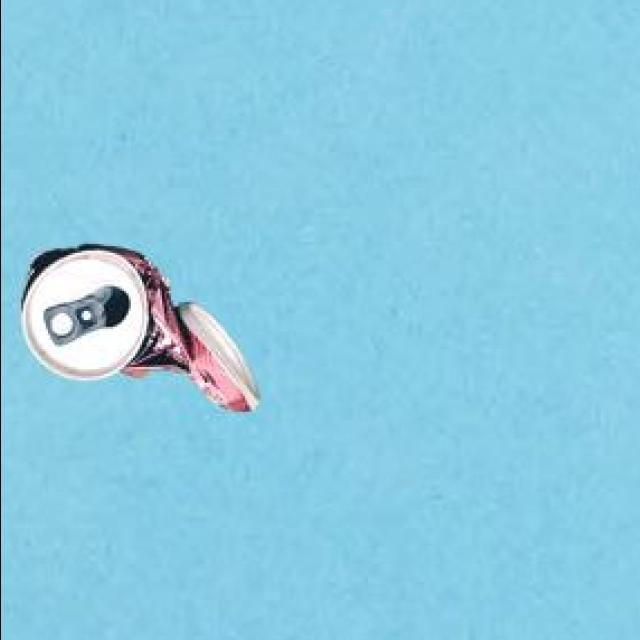logam: (17, 241, 256, 408)
